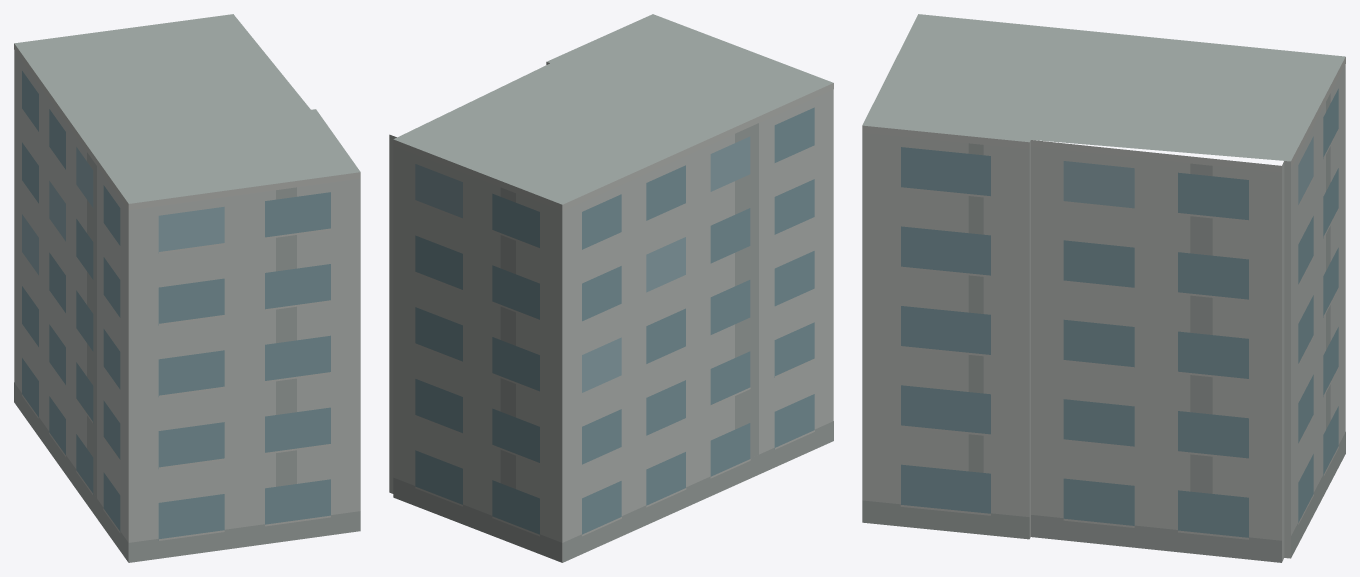
The model's file is survey-upis-32653334.glb.
3 views of the same model, side by side, from view 1: azimuth 30°, elevation 25°; view 2: azimuth 150°, elevation 25°; view 3: azimuth 270°, elevation 25° (orthographic). The views are drawn at different scales.
Visible parts, largest first — view 1: survey-upis-32653334.tmp; view 2: survey-upis-32653334.tmp; view 3: survey-upis-32653334.tmp.
Part boxes in pixels (x1,y1,x2,y2): survey-upis-32653334.tmp: (14, 14, 360, 562); survey-upis-32653334.tmp: (389, 14, 833, 562); survey-upis-32653334.tmp: (862, 14, 1345, 562).
Size of the model in its own units: 11.08 by 13.5 by 14.91.
